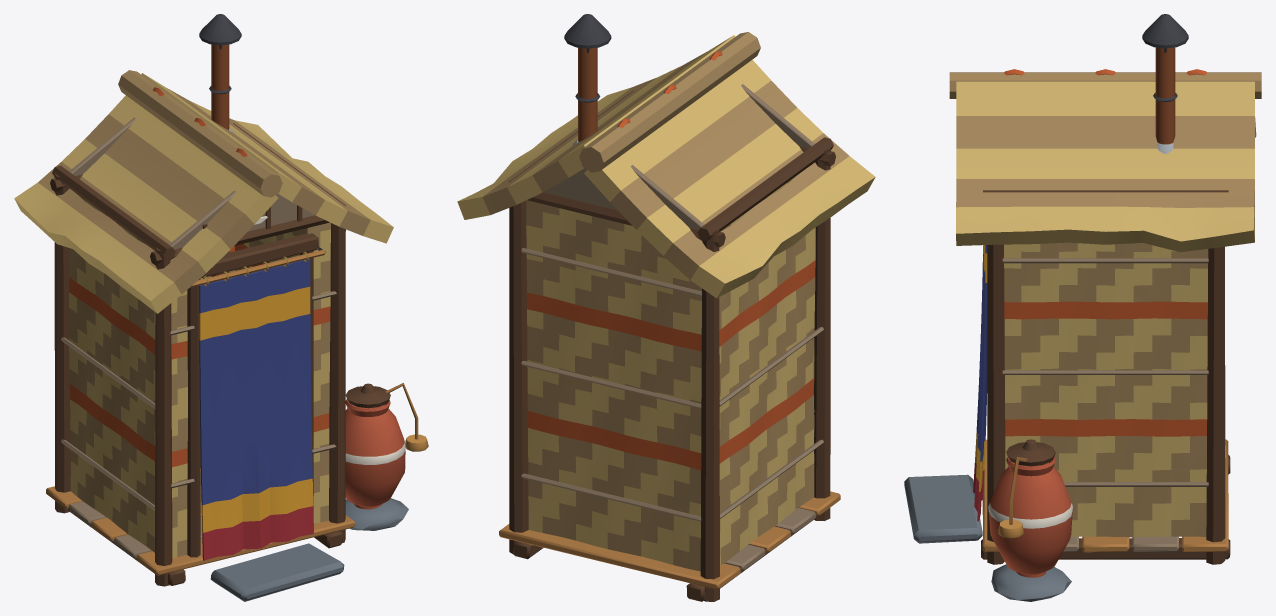
The model's file is deco_latrine.fbx.
3 renders of one model, left to right at view 1: azimuth 30°, elevation 25°; view 2: azimuth 150°, elevation 25°; view 3: azimuth 270°, elevation 25°, orthographic. The views are drawn at different scales.
Visible parts, largest first — view 1: Latrine_Walls, Latrine_Roof, Latrine_Curtain, Latrine_Jar, Latrine_Vent; view 2: Latrine_Walls, Latrine_Roof, Latrine_Vent; view 3: Latrine_Walls, Latrine_Roof, Latrine_Jar, Latrine_Vent, Latrine_Curtain.
Part boxes in pixels (x1,y1,x2,y2): Latrine_Walls: (46,117,354,601); Latrine_Roof: (14,70,393,313); Latrine_Curtain: (190,247,325,560); Latrine_Jar: (345,383,428,530); Latrine_Vent: (199,14,241,280); Latrine_Walls: (499,84,840,601); Latrine_Roof: (457,32,875,298); Latrine_Vent: (564,14,611,145); Latrine_Walls: (904,190,1230,564); Latrine_Roof: (949,69,1261,252); Latrine_Jar: (988,439,1072,601); Latrine_Vent: (1142,14,1188,154); Latrine_Curtain: (973,245,987,521).
Bounding box in the file's own units: 230 × 349 × 215.
